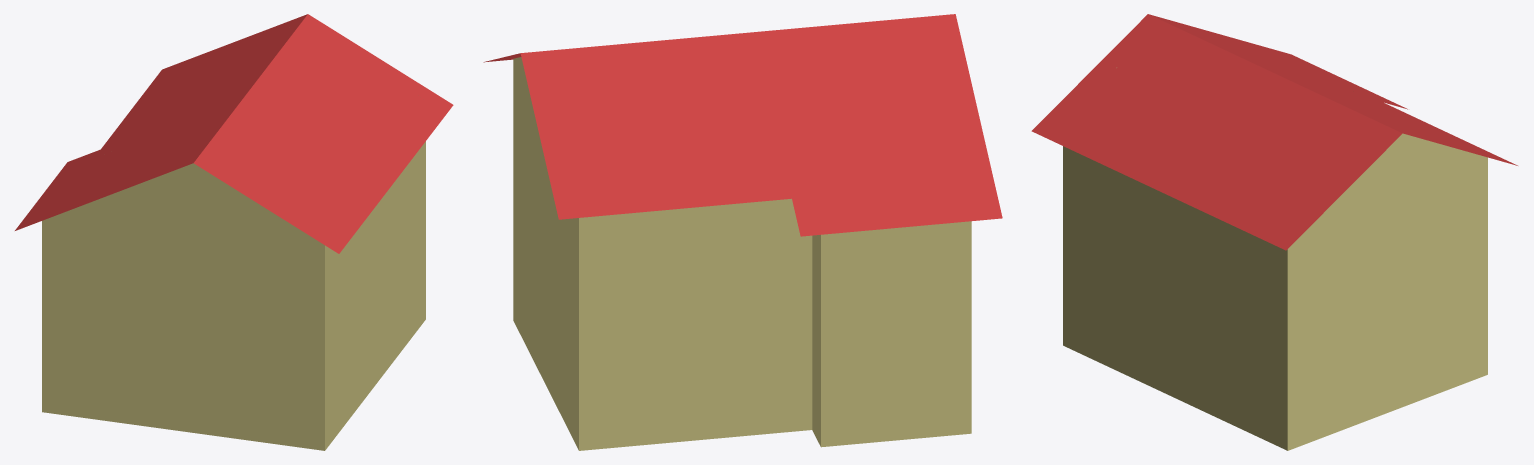
3 renders of one model, left to right at view 1: azimuth 30°, elevation 25°; view 2: azimuth 150°, elevation 25°; view 3: azimuth 270°, elevation 25°, orthographic. The views are drawn at different scales.
Parts seen in each view (by area): view 1: group_5, group_3, group_4; view 2: group_5, group_3, group_4; view 3: group_5, group_3, group_4.
Boxes of the visible parts, left/top/right/bottom form: group_5: left=42, top=141, right=425, bottom=450; group_3: left=15, top=14, right=425, bottom=231; group_4: left=98, top=14, right=453, bottom=253; group_5: left=513, top=57, right=971, bottom=450; group_3: left=483, top=14, right=1002, bottom=236; group_4: left=521, top=51, right=816, bottom=198; group_5: left=1063, top=67, right=1487, bottom=450; group_3: left=1063, top=14, right=1517, bottom=226; group_4: left=1031, top=14, right=1408, bottom=250.
Bounding box in the file's own units: 17.23 × 16.27 × 10.54.
